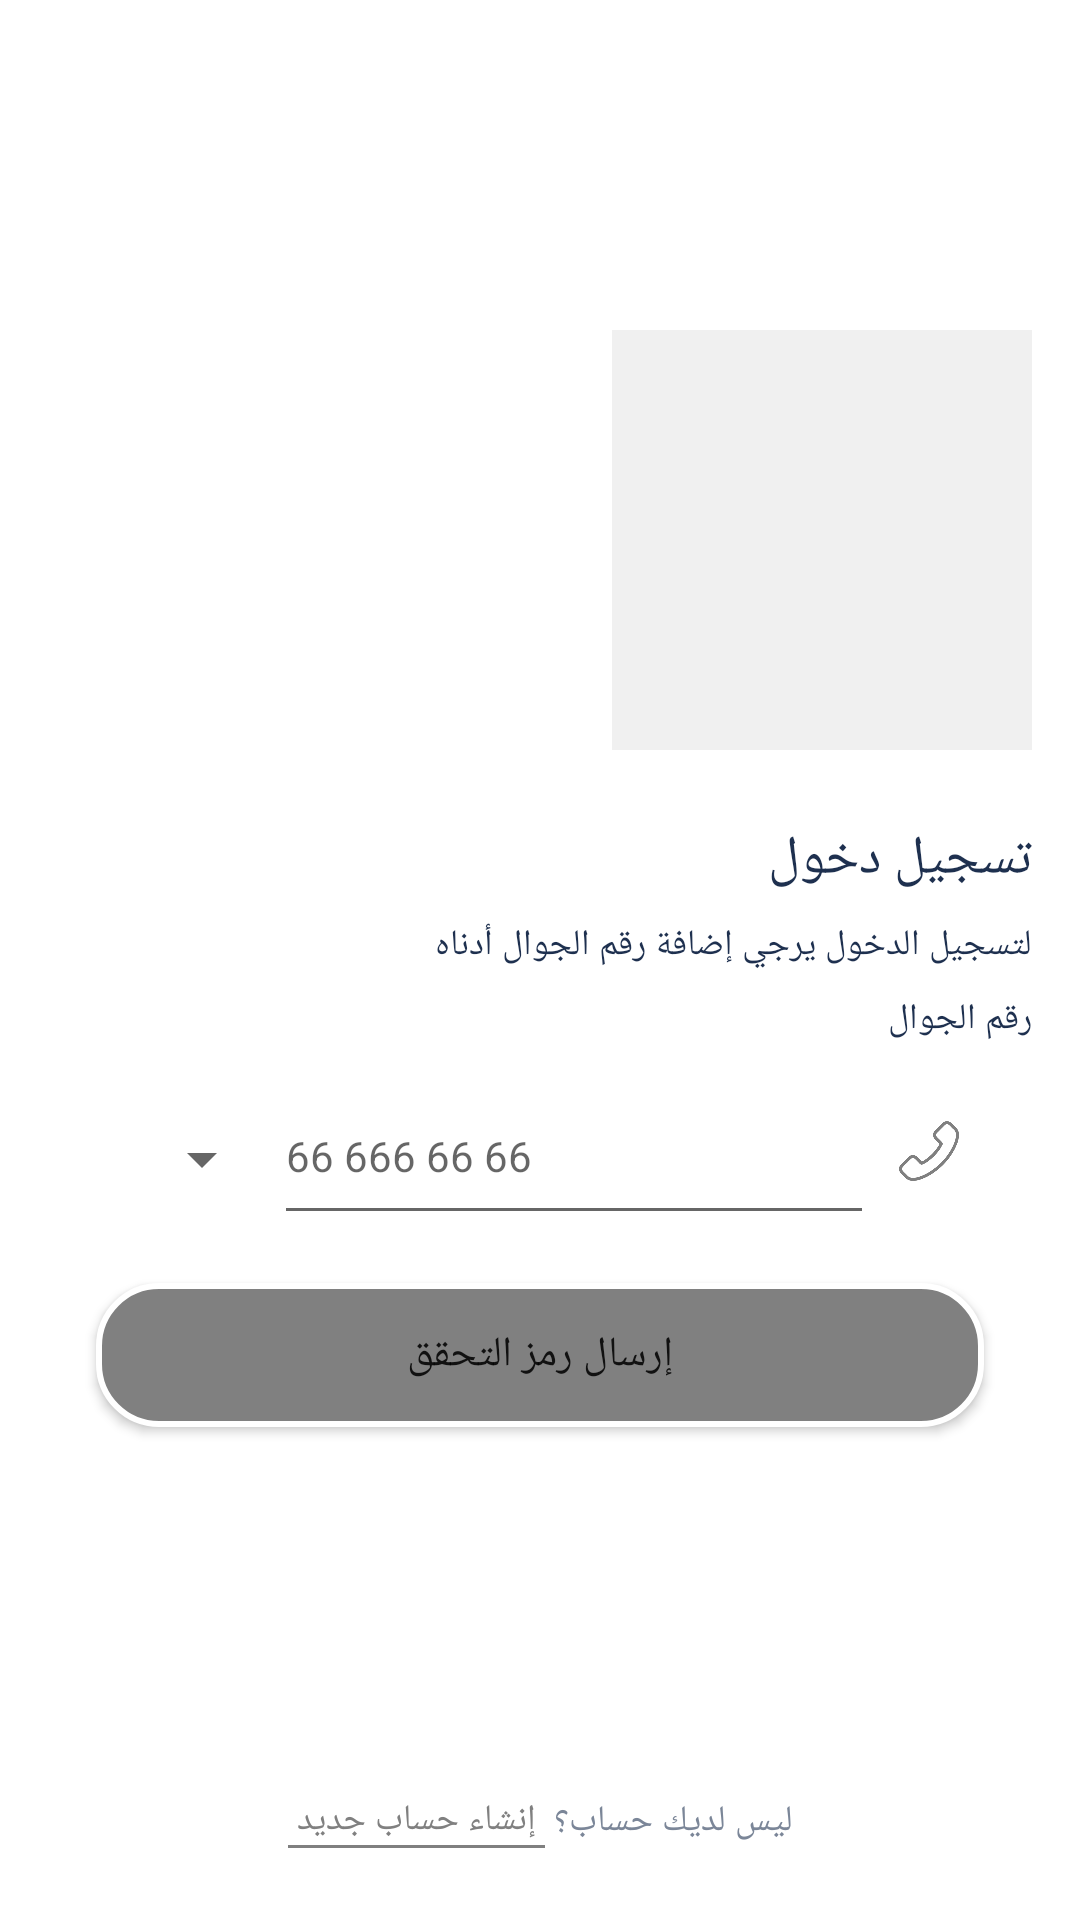

Screen size 1080 x 1920. Icon name, then its box in pixels as (x1, y1, x2, y2):
telephone: (899, 1121, 959, 1181)
